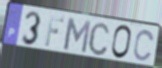3: (21, 10, 42, 47)
C: (87, 21, 111, 58), (132, 29, 155, 63)
F: (43, 15, 66, 48)
M: (63, 16, 93, 55)
O: (110, 24, 133, 61)
